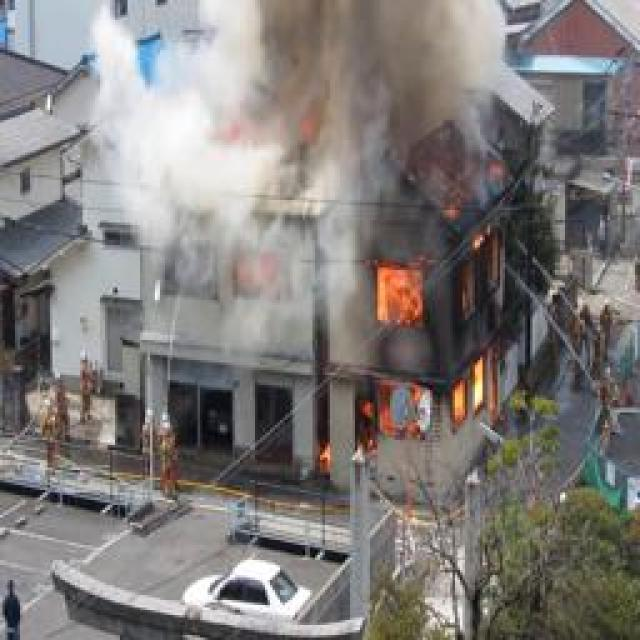Fire: (304, 220, 536, 490)
